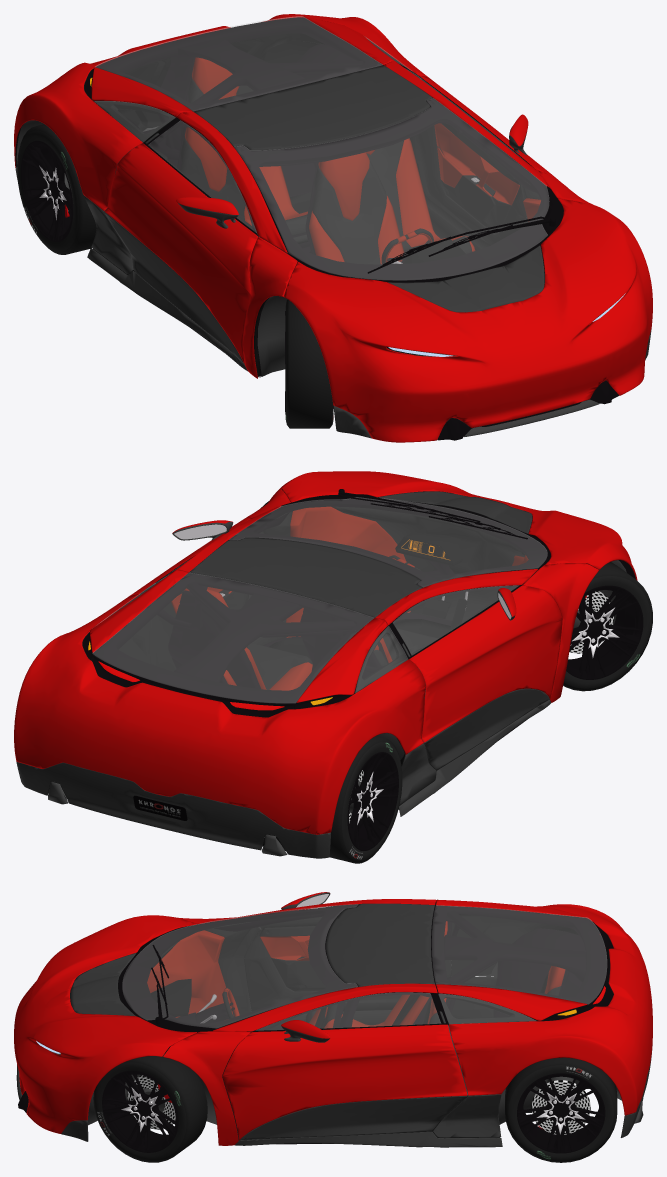
Rendered from car-concept.glb.
The picture shows the model from 3 angles, top to bottom: view 1: azimuth 30°, elevation 25°; view 2: azimuth 150°, elevation 25°; view 3: azimuth 270°, elevation 25°; orthographic projection. The views are drawn at different scales.
Parts seen in each view (by area): view 1: BodyHood, BodyWindshield, BodyRearwindow, BodyDoorRColor1, BodyRearPanelsColor1, BodyRoofPanel, BodyWindshieldGasket, InteriorSeatsColor1, InteriorSeatsColor2, BodyPillars, InteriorPillar, InteriorRearHatch (+21 smaller); view 2: BodyRearPanelsColor1, BodyRearwindow, BodyWindshield, BodyDoorRColor1, BodyPanelsColor2, BodyRoofPanel, BodyHood, InteriorRearHatch, BodyPillars, InteriorPillar, BodyWindshieldGasket, InteriorDashMid (+22 smaller); view 3: BodyRearPanelsColor1, BodyWindshield, BodyDoorLColor1, BodyHood, BodyRearwindow, BodyRoofPanel, BodyPillars, BodyWindshieldGasket, BodyDoorLColor2, BodyPanelsColor2, WheelFrontL, InteriorRearHatch (+25 smaller).
Boxes of the visible parts, bbox=[...] form: BodyHood: bbox=[283, 198, 652, 442]; BodyWindshield: bbox=[234, 98, 549, 280]; BodyRearwindow: bbox=[95, 16, 382, 110]; BodyDoorRColor1: bbox=[104, 143, 257, 363]; BodyRearPanelsColor1: bbox=[14, 14, 428, 210]; BodyRoofPanel: bbox=[193, 65, 432, 150]; BodyWindshieldGasket: bbox=[234, 99, 563, 282]; InteriorSeatsColor1: bbox=[185, 57, 475, 264]; InteriorSeatsColor2: bbox=[180, 78, 472, 264]; BodyPillars: bbox=[176, 61, 598, 378]; InteriorPillar: bbox=[158, 37, 434, 168]; InteriorRearHatch: bbox=[93, 17, 383, 117]; BodyRearPanelsColor1: bbox=[14, 569, 425, 834]; BodyRearwindow: bbox=[92, 573, 373, 703]; BodyWindshield: bbox=[229, 497, 547, 587]; BodyDoorRColor1: bbox=[409, 585, 562, 742]; BodyPanelsColor2: bbox=[16, 700, 550, 858]; BodyRoofPanel: bbox=[189, 537, 422, 617]; BodyHood: bbox=[279, 471, 637, 580]; InteriorRearHatch: bbox=[93, 573, 386, 707]; BodyPillars: bbox=[175, 489, 599, 702]; InteriorPillar: bbox=[174, 574, 417, 682]; BodyWindshieldGasket: bbox=[230, 497, 550, 587]; InteriorDashMid: bbox=[331, 503, 528, 622]; BodyRearPanelsColor1: bbox=[436, 899, 652, 1115]; BodyWindshield: bbox=[122, 904, 357, 1028]; BodyDoorLColor1: bbox=[222, 1024, 467, 1139]; BodyHood: bbox=[14, 915, 196, 1133]; BodyRearwindow: bbox=[432, 905, 606, 1003]; BodyRoofPanel: bbox=[326, 903, 434, 986]; BodyPillars: bbox=[163, 899, 437, 1145]; BodyWindshieldGasket: bbox=[118, 905, 357, 1032]; BodyDoorLColor2: bbox=[240, 1096, 467, 1140]; BodyPanelsColor2: bbox=[16, 1045, 652, 1147]; WheelFrontL: bbox=[93, 1054, 207, 1162]; InteriorRearHatch: bbox=[431, 905, 606, 1020].
Size of the model in its own units: 2.54 by 1.15 by 4.36.
23 materials, 6 textured.
